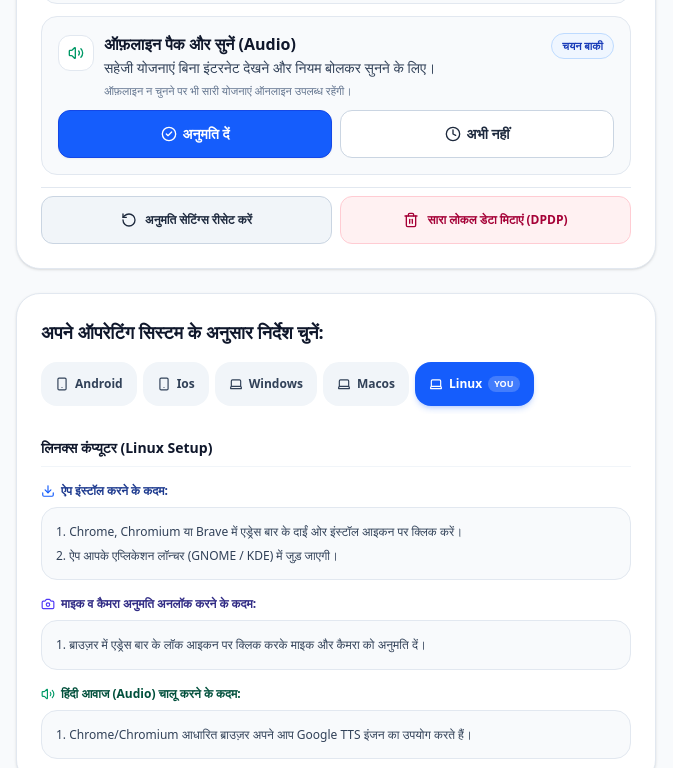
Test: Help & Device Diagnostics Page (/help) › switches OS tabs and updates setup instructions accordingly
The width and height of the screenshot is (673, 768).
Later steps or results of the test are not shown.
(page scrolled)
Click iOS tab
Step 1. Click the button "ios" → (176, 384), box [143,362,209,406]
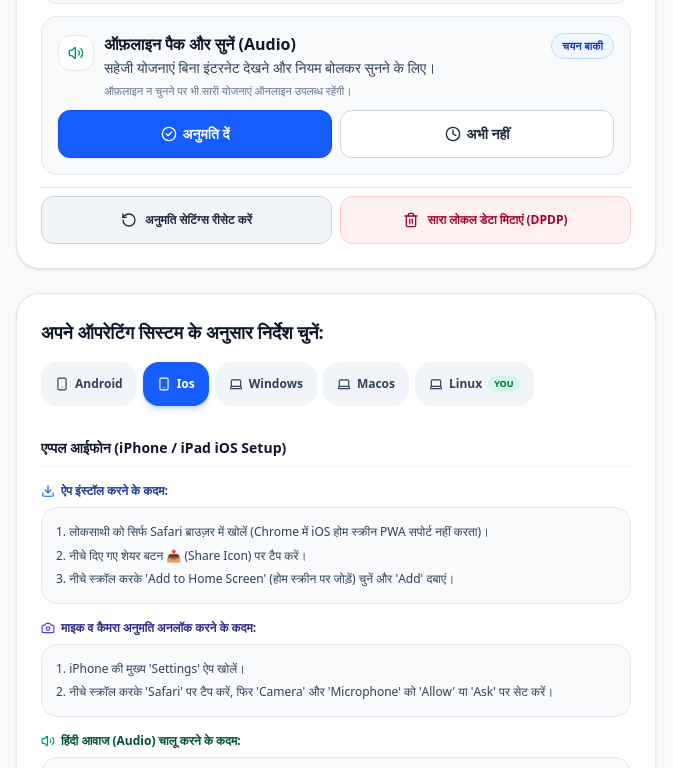
Check: the heading "एप्पल आईफोन (iPhone / iPad iOS Setup)" is shown, box [41,438,631,467]
